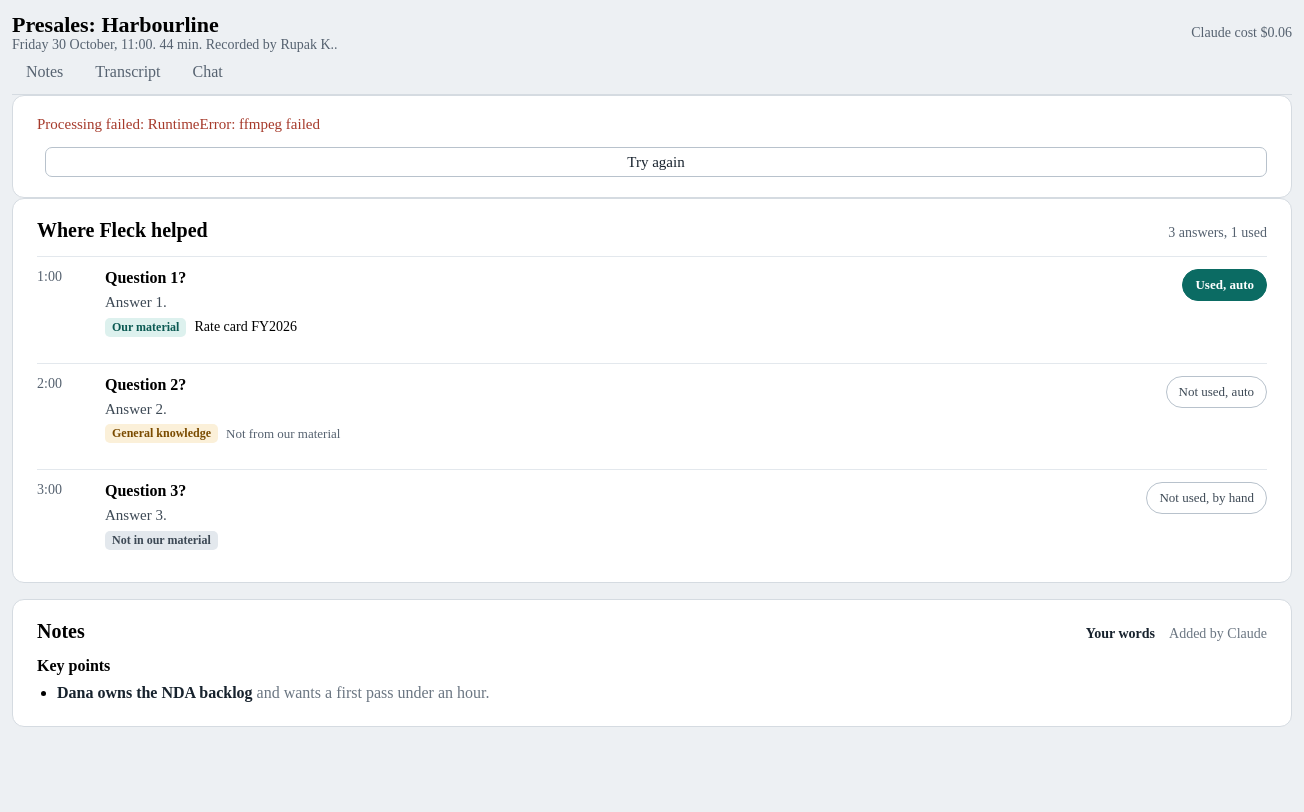
Test: failed shows the reason and Try again re-enqueues
Expected: the heading "Presales: Harbourline" is shown, [12,12,219,37]
Expected: the text "Processing failed: RuntimeError: ffmpeg failed Try again" is shown, [12,95,1292,198]
What coordinates should you click on to do the following:
click the button "Try again"
I would click on:
 (656, 162)
Its box is [45,147,1267,177].
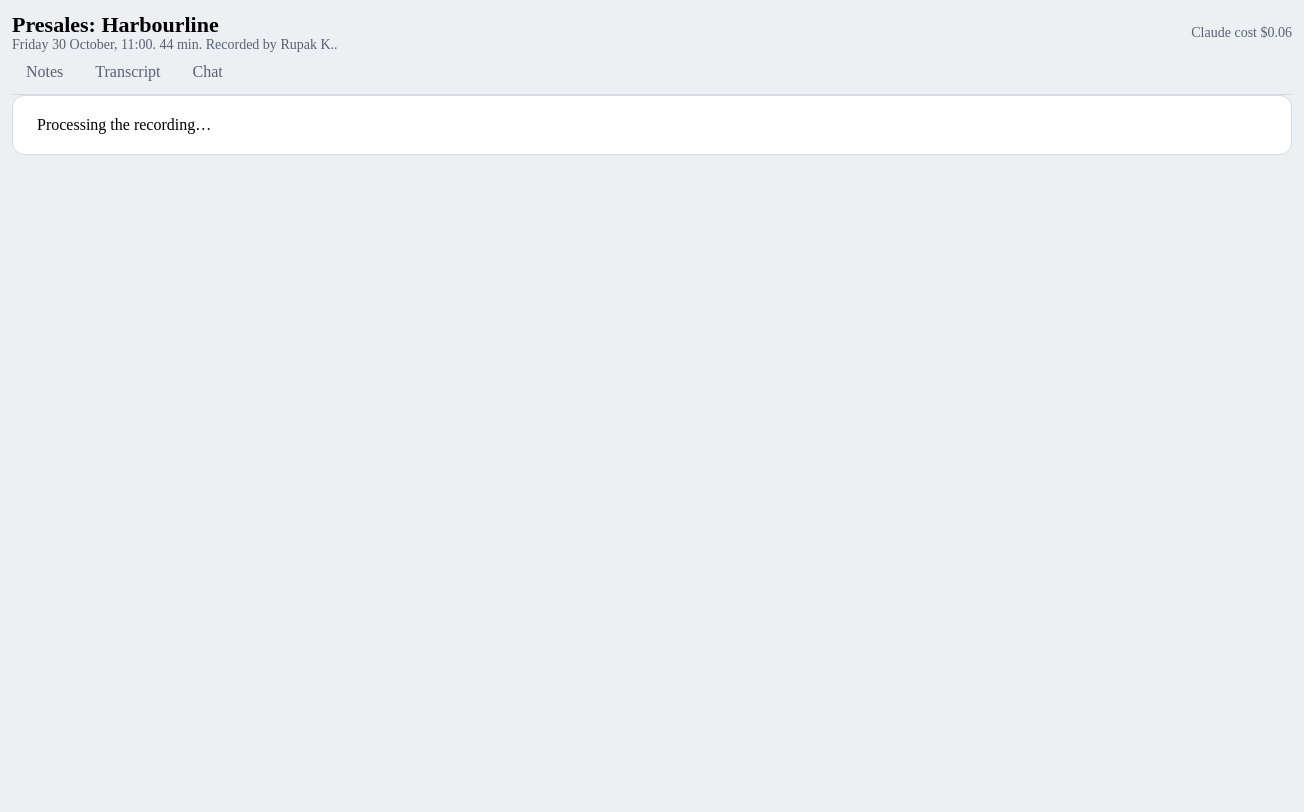
Expected: the text "Processing the recording…" is shown, [12,95,1292,155]
